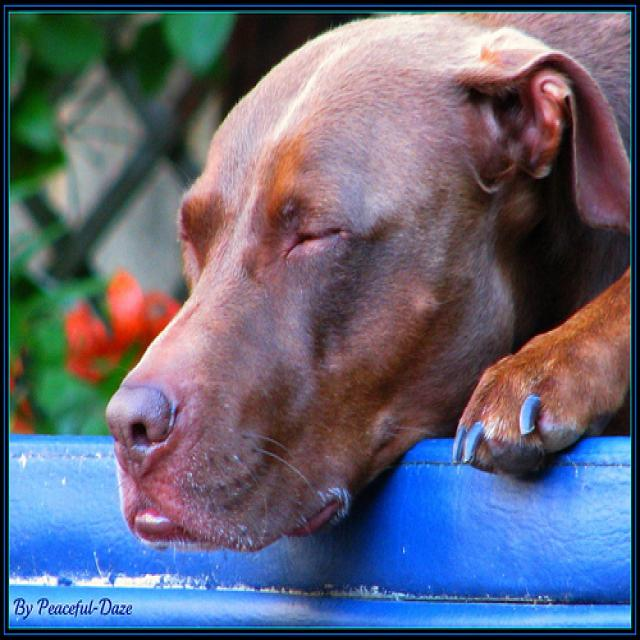dog-american_pit_bull_terrier: (97, 2, 637, 571)
